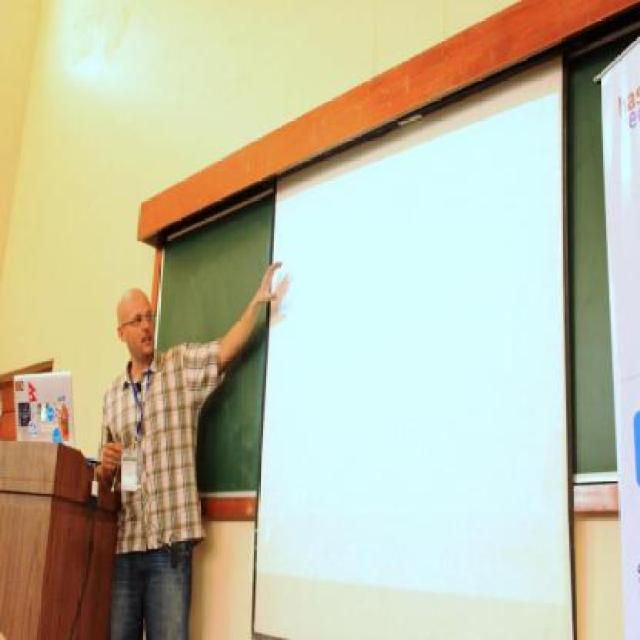Person: (93, 260, 284, 638)
